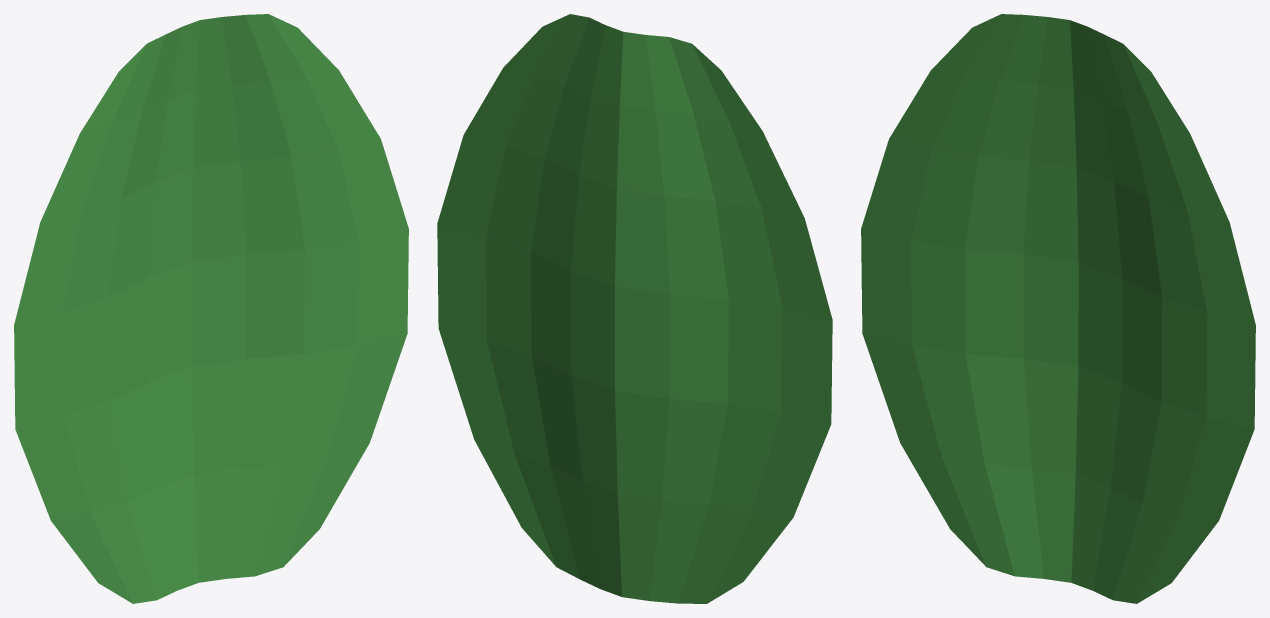
The model's file is v5BetaLeaf.fbx.
The picture shows the model from 3 angles, left to right: view 1: azimuth 30°, elevation 25°; view 2: azimuth 150°, elevation 25°; view 3: azimuth 330°, elevation 25°; orthographic projection.
Parts seen in each view (by area): view 1: V4BetaLeaf; view 2: V4BetaLeaf; view 3: V4BetaLeaf.
Part boxes in pixels (left/top/right/bottom): V4BetaLeaf: left=14, top=14, right=408, bottom=603; V4BetaLeaf: left=437, top=14, right=832, bottom=603; V4BetaLeaf: left=861, top=14, right=1255, bottom=603.
Size of the model in its own units: 1 by 1.37 by 0.0884.
